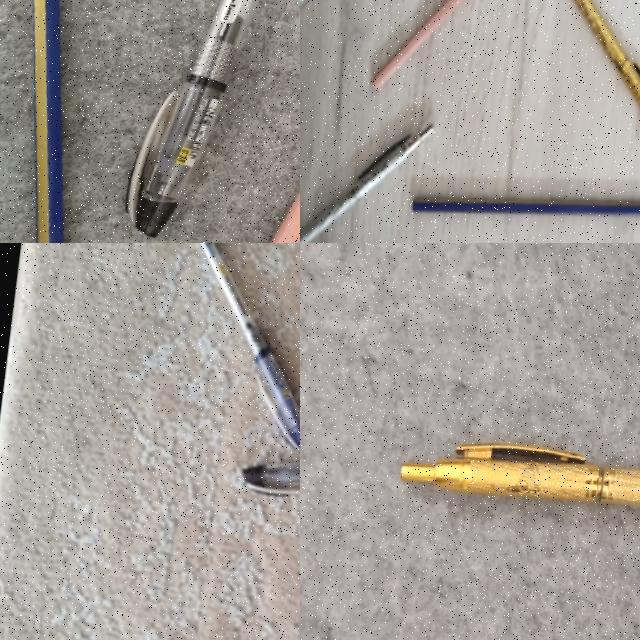pen: (134, 0, 297, 240), (178, 243, 300, 452), (300, 0, 424, 49), (243, 438, 300, 511)
pencil: (0, 0, 125, 243), (419, 173, 640, 227), (372, 0, 463, 88)
signature pen: (300, 110, 433, 243), (538, 0, 640, 158), (400, 444, 639, 504)
